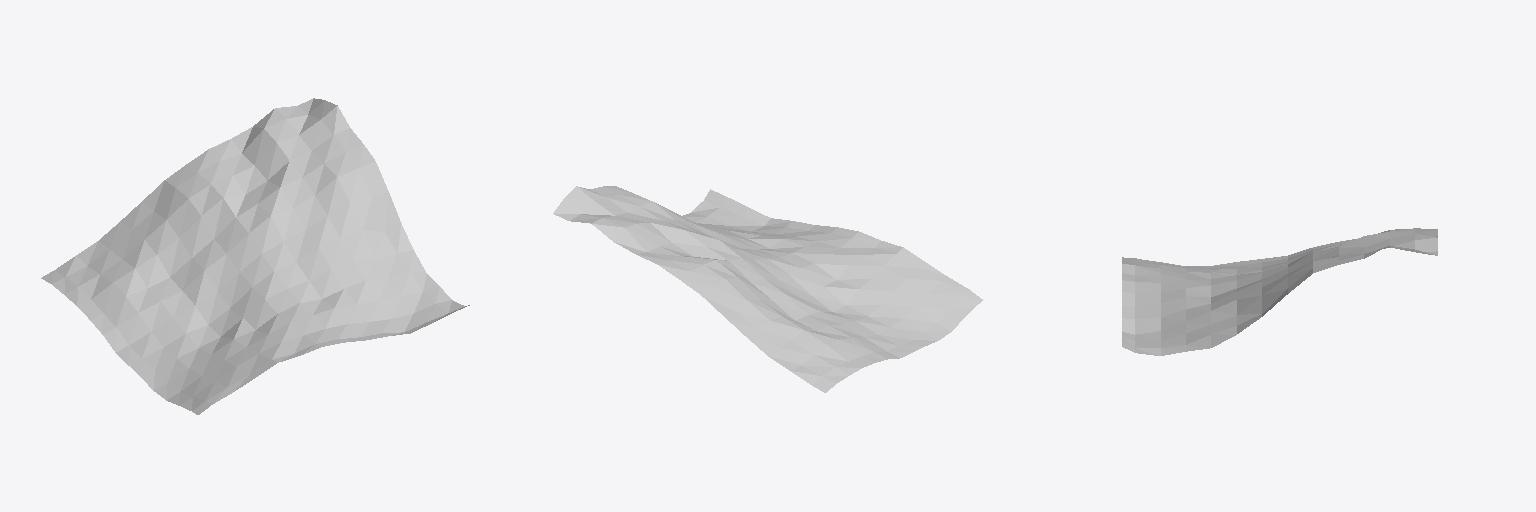
Rendered from Landscape.015.obj.
3 views of the same model, side by side, from view 1: azimuth 30°, elevation 25°; view 2: azimuth 150°, elevation 25°; view 3: azimuth 270°, elevation 25° (orthographic).
Visible parts, largest first — view 1: Landscape.015; view 2: Landscape.015; view 3: Landscape.015.
Boxes of the visible parts, x1=… form: Landscape.015: x1=41, y1=98, x2=469, y2=414; Landscape.015: x1=553, y1=186, x2=982, y2=392; Landscape.015: x1=1122, y1=228, x2=1437, y2=355.
Bounding box in the file's own units: 32 × 17.24 × 32.